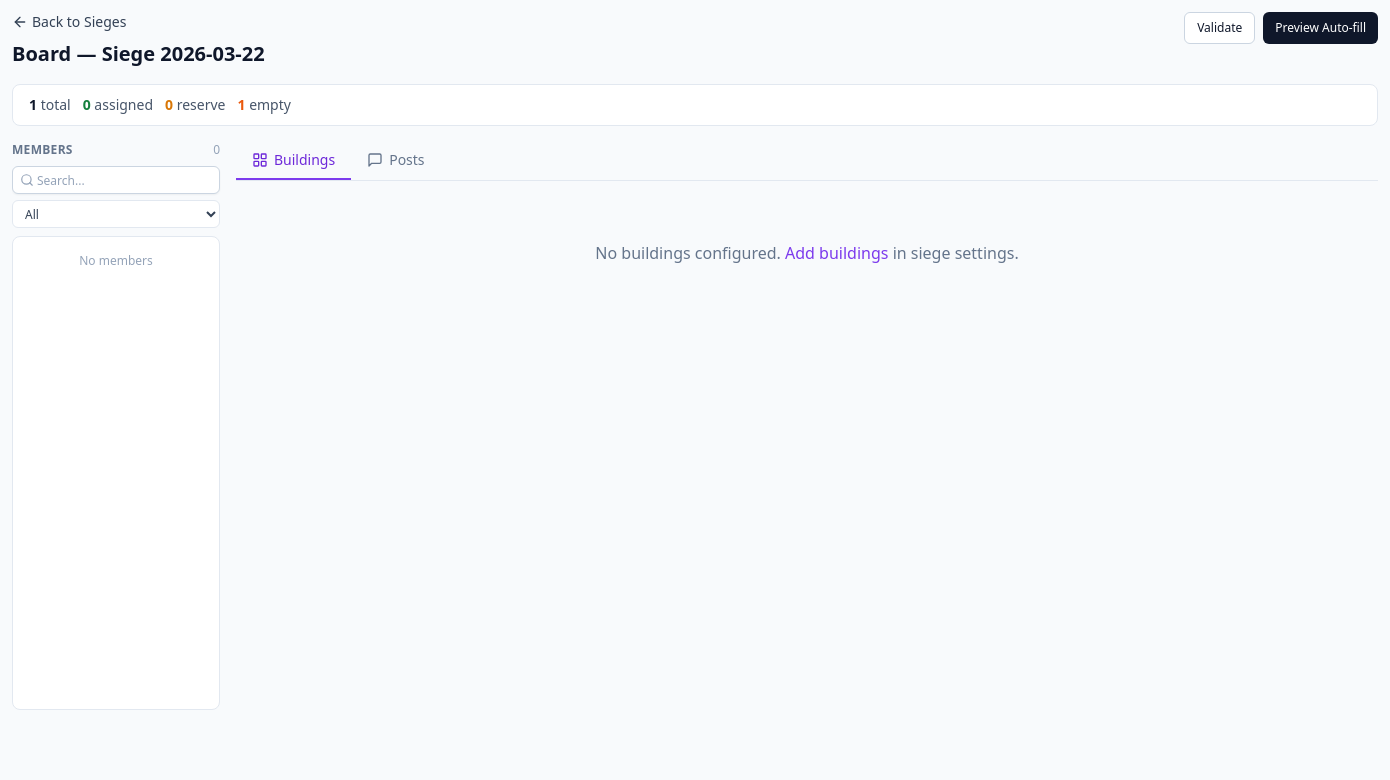
Test case: PostsTab — optimal-status chip (#364) › chip renders suggestion count when suggestions are available
Click the button "Posts" at (396, 161), box 351,142 -> 441,180
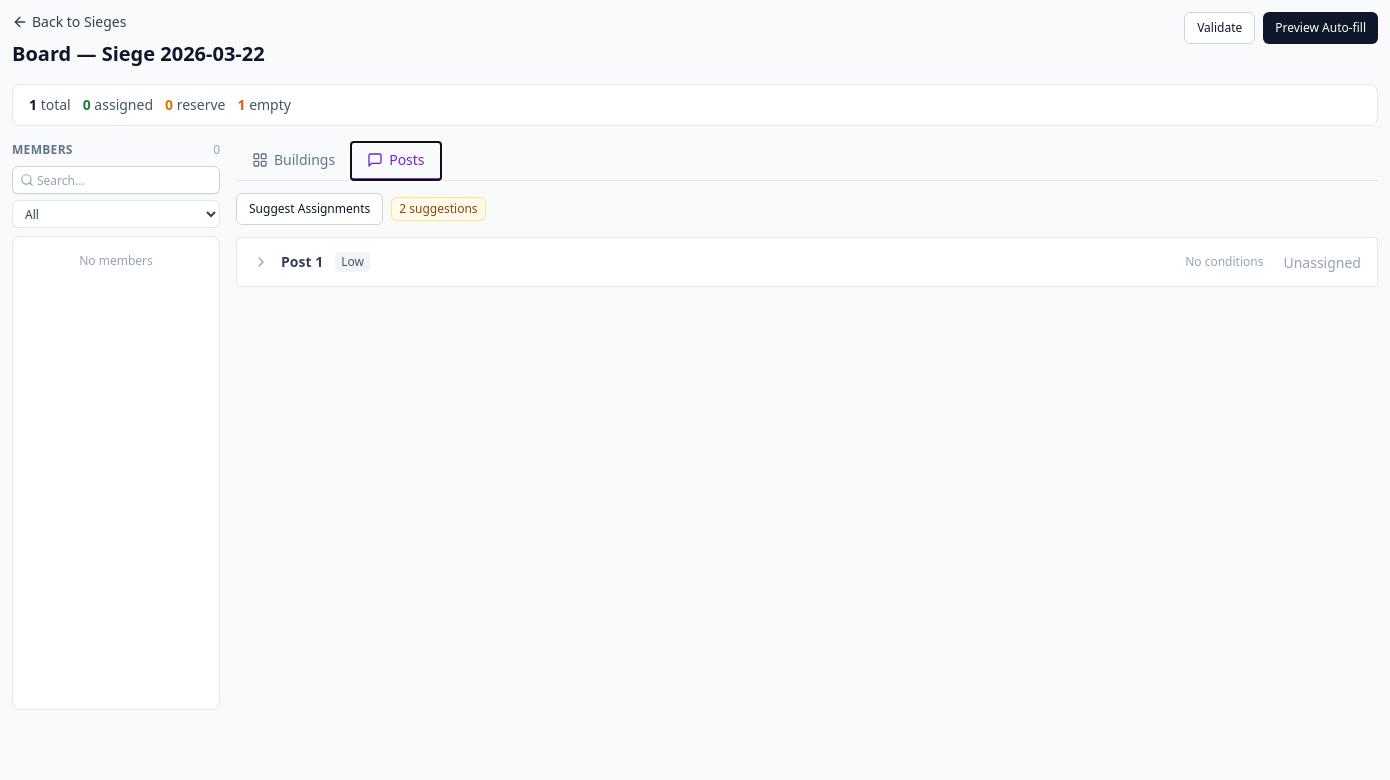
Expected: the text "2 suggestions" is shown, 391,197 -> 486,221
